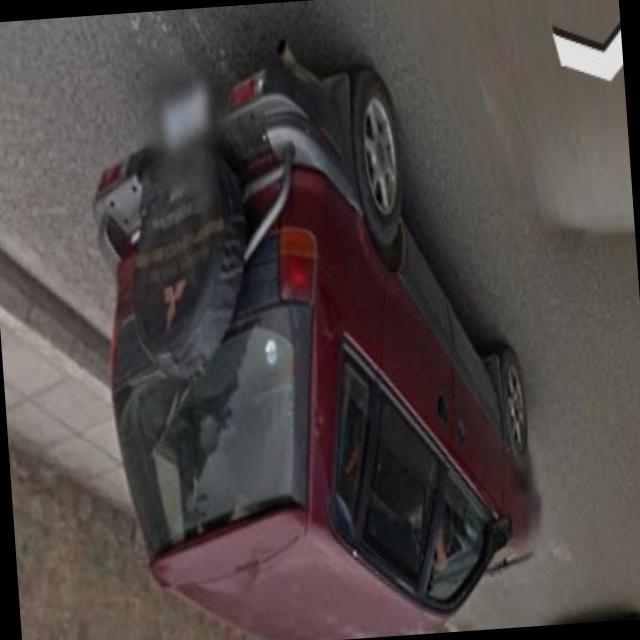car: (82, 43, 564, 640)
